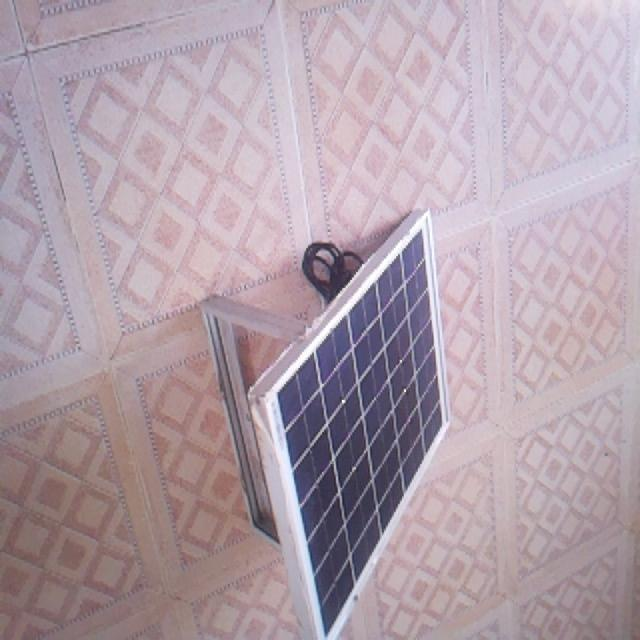Normal Solar Panel: (278, 234, 444, 635)
